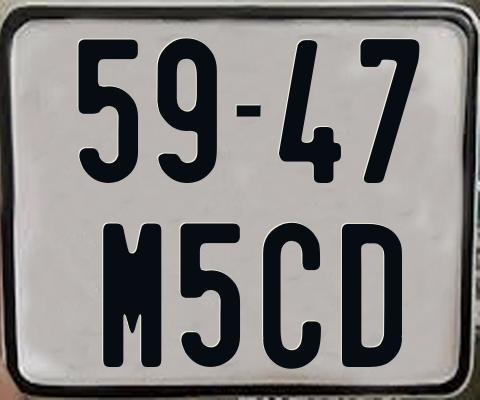4: (279, 38, 344, 181)
5: (75, 37, 140, 183), (178, 222, 241, 366)
7: (360, 36, 424, 186)
9: (157, 36, 222, 183)
C: (261, 220, 324, 369)
D: (342, 222, 403, 370)
M: (100, 223, 158, 371)
